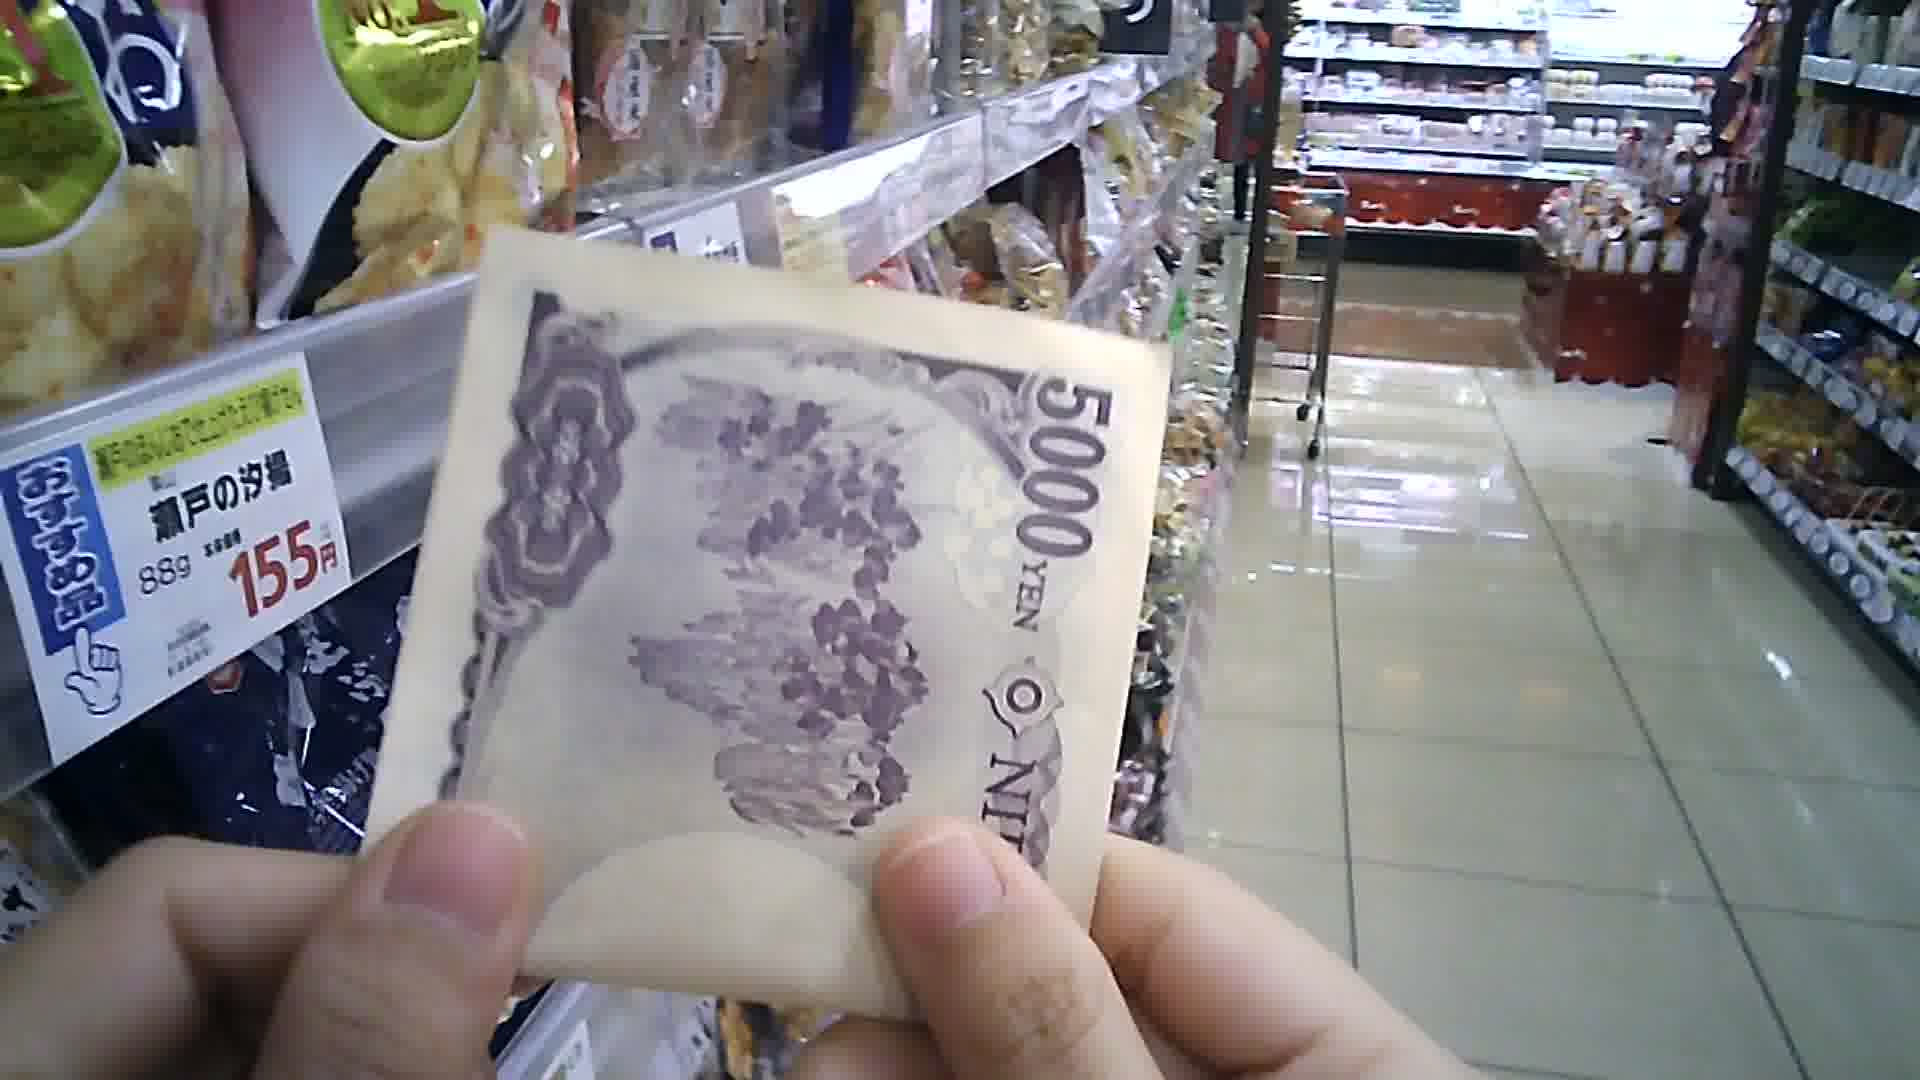5,000 Yen: (356, 211, 1191, 1050)
